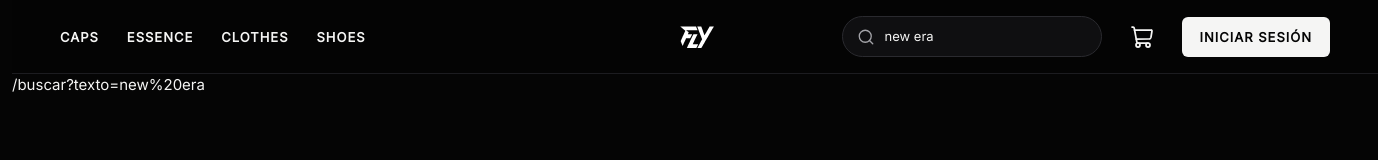
Scenario: Header › el buscador busca en toda la tienda (CU-01 · S1) y muestra el texto buscado
Replace the text in the search field named "Buscar productos" with " 9forty negra " at (986, 36), box [884,27,1086,46]
Then press Enter
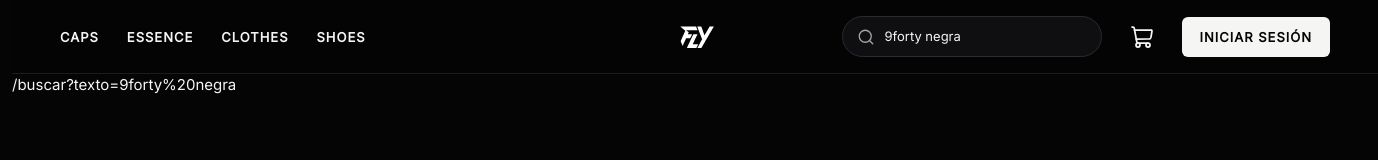
Now the text with test id "ubicacion" reads "/buscar?texto=9forty%20negra", box [12,75,236,94]
Now the search field named "Buscar productos" holds "9forty negra", box [884,27,1086,46]
